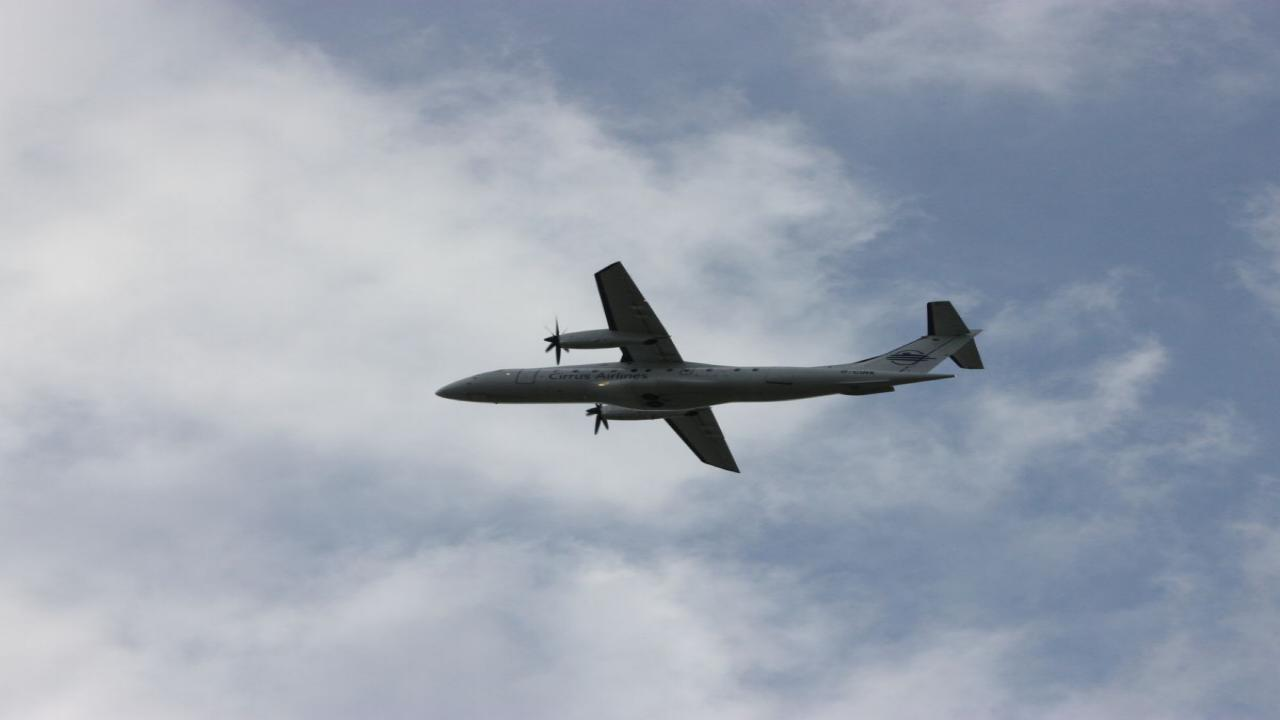Airplane: (420, 253, 1006, 484)
